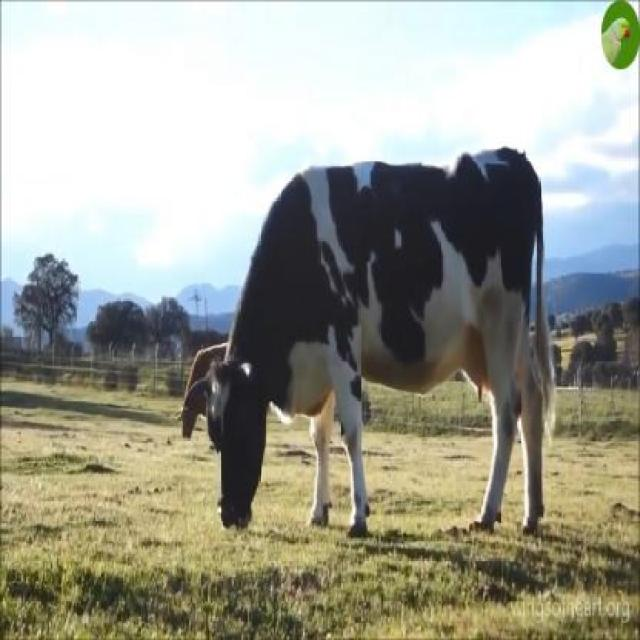Cow: (206, 148, 554, 540)
